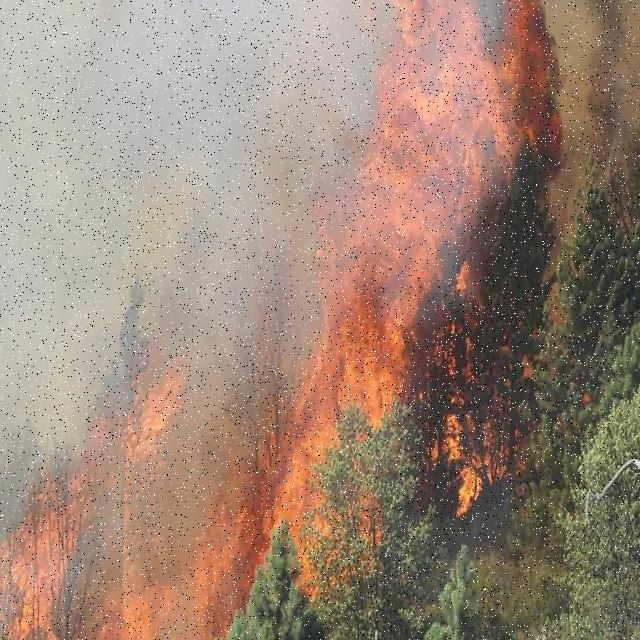fire: (372, 0, 478, 263), (316, 218, 402, 408), (123, 345, 207, 503), (124, 547, 220, 631), (224, 496, 248, 590)
